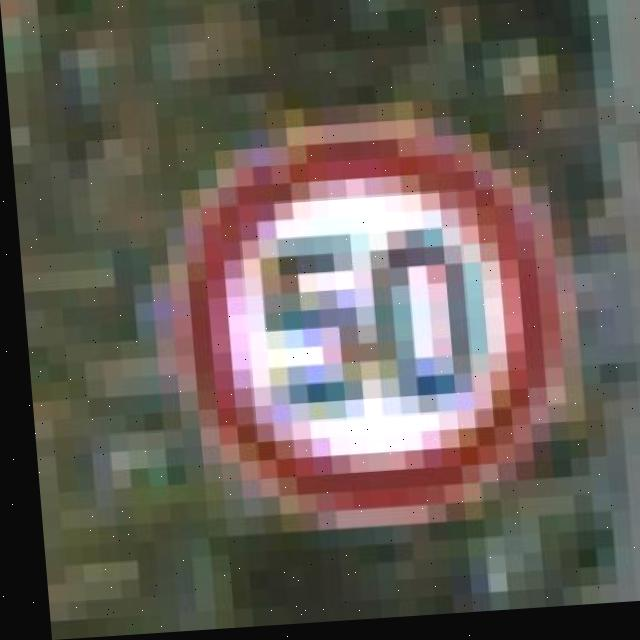Speed limit 50: (165, 108, 574, 534)
